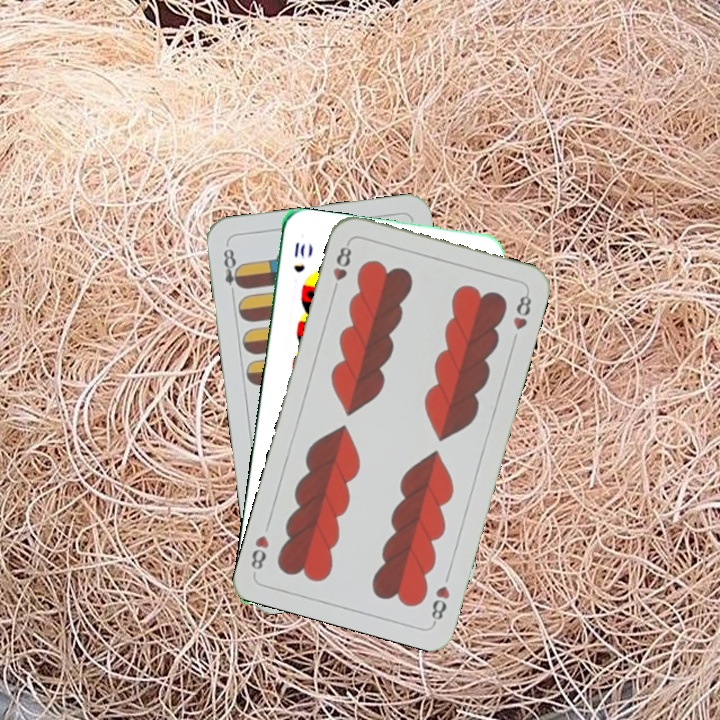E8: (219, 244, 245, 300)
H8: (328, 238, 355, 296), (427, 581, 453, 626)
S10: (289, 237, 308, 275)
